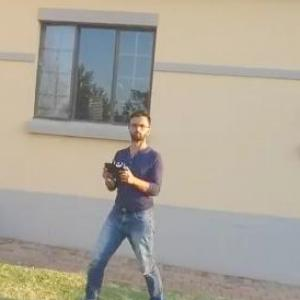follow: (70, 105, 168, 299)
